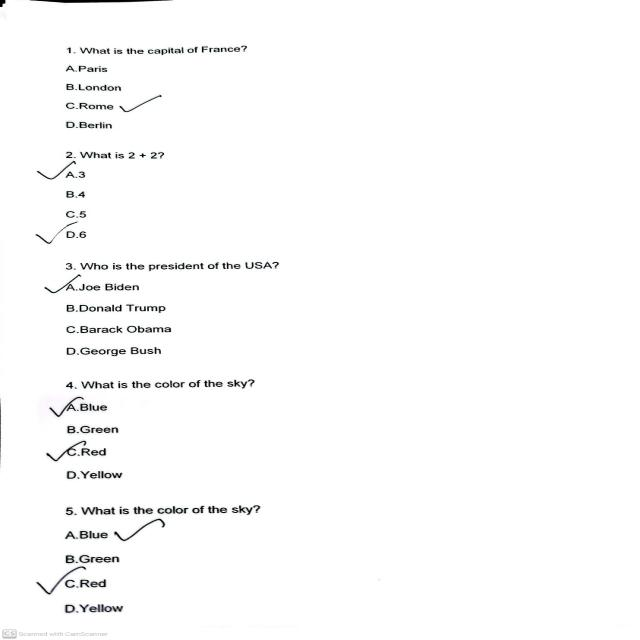Student_Ticked: (112, 515, 168, 544), (32, 220, 82, 248), (46, 437, 89, 465), (114, 93, 167, 115), (36, 569, 81, 594), (41, 274, 84, 296), (48, 394, 86, 418), (36, 161, 79, 179)
